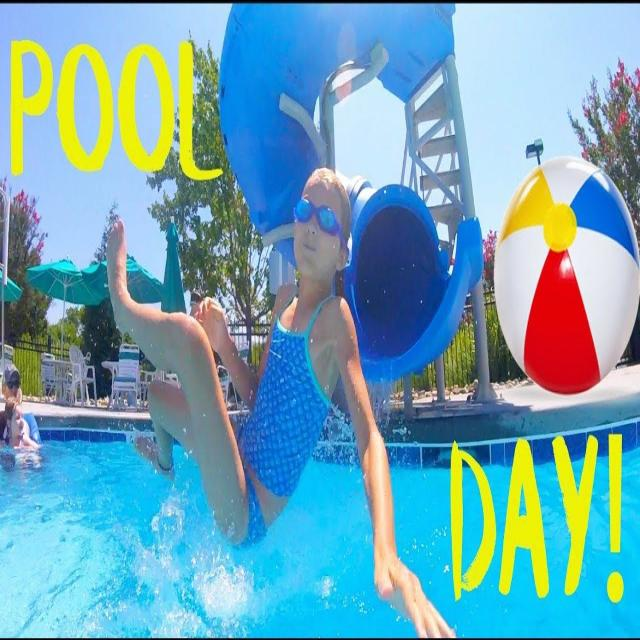child: (100, 166, 455, 640)
